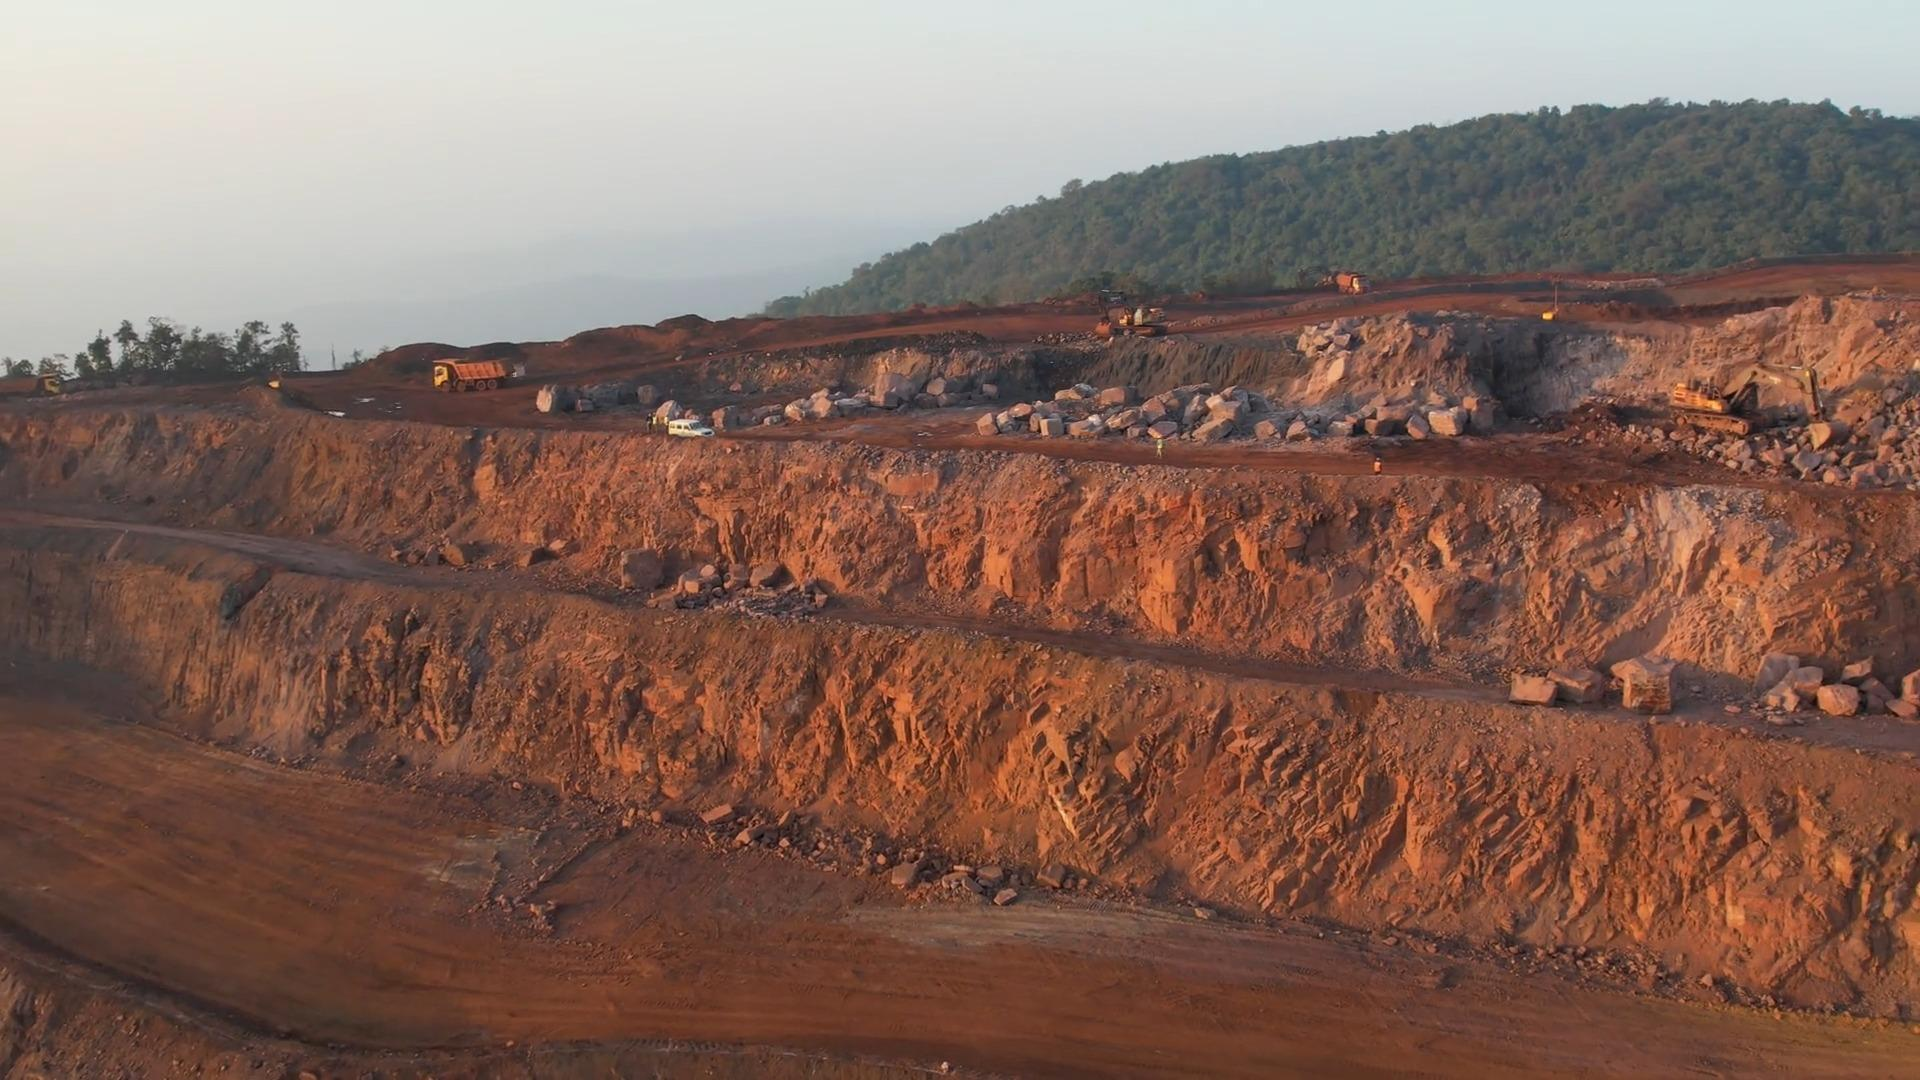excavator: (1668, 362, 1850, 435), (1092, 289, 1168, 334)
